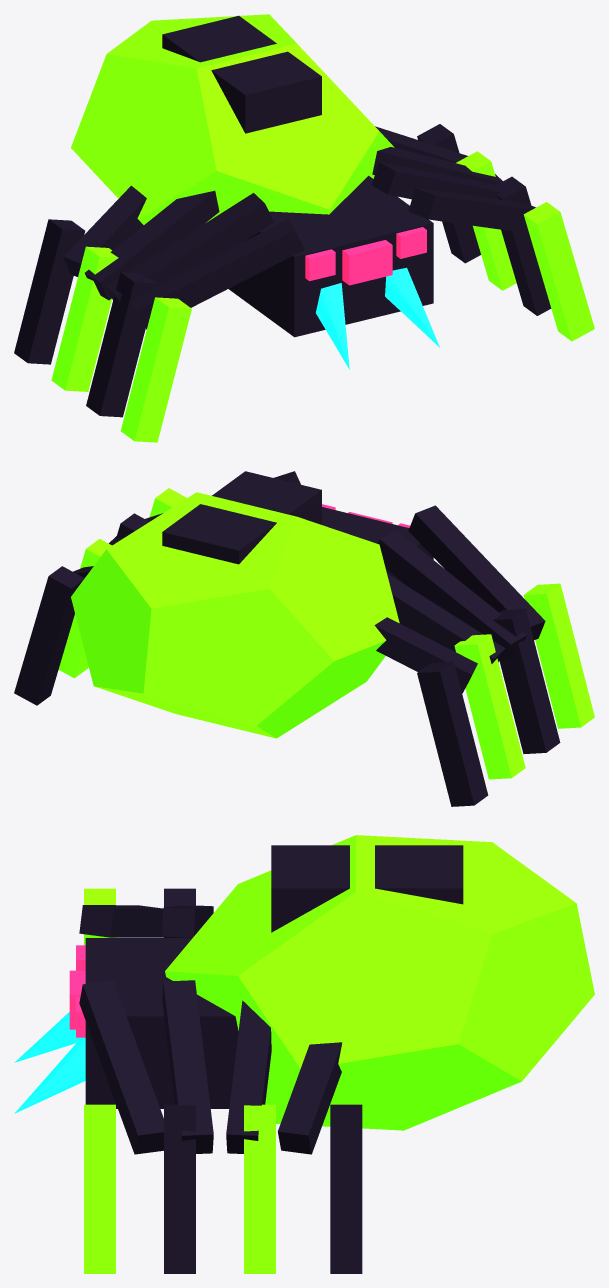
Rendered from enemy_spider.glb.
The picture shows the model from 3 angles, top to bottom: view 1: azimuth 30°, elevation 25°; view 2: azimuth 150°, elevation 25°; view 3: azimuth 270°, elevation 25°; orthographic projection. The views are drawn at different scales.
Visible parts, largest first — view 1: abdomen, thorax, abdomen_ridge, leg_lower_-1_0, leg_upper_-1_0, leg_lower_-1_3, leg_lower_-1_1, leg_lower_1_0, leg_lower_-1_2, leg_upper_-1_1, leg_upper_-1_2, leg_upper_1_0 (+12 smaller); view 2: abdomen, abdomen_ridge, leg_lower_-1_3, leg_lower_-1_0, leg_upper_-1_1, leg_lower_-1_2, leg_upper_-1_0, leg_lower_-1_1, leg_lower_1_3, leg_upper_-1_2, leg_upper_-1_3, thorax (+2 smaller); view 3: abdomen, thorax, abdomen_ridge, leg_upper_1_0, leg_lower_1_3, leg_upper_1_1, leg_lower_1_0, leg_lower_1_1, leg_lower_1_2, leg_upper_1_3, leg_upper_1_2, leg_upper_-1_0 (+6 smaller).
Part boxes in pixels (x1=…): abdomen: x1=71, y1=14, x2=394, y2=224; thorax: x1=228, y1=175, x2=433, y2=337; abdomen_ridge: x1=162, y1=15, x2=321, y2=133; leg_lower_-1_0: x1=120, y1=297, x2=191, y2=442; leg_upper_-1_0: x1=132, y1=219, x2=304, y2=329; leg_lower_-1_3: x1=14, y1=219, x2=85, y2=364; leg_lower_-1_1: x1=86, y1=272, x2=157, y2=417; leg_lower_1_0: x1=523, y1=202, x2=594, y2=341; leg_lower_-1_2: x1=51, y1=246, x2=118, y2=391; leg_upper_-1_1: x1=106, y1=193, x2=273, y2=301; leg_upper_-1_2: x1=85, y1=190, x2=219, y2=300; leg_upper_1_0: x1=408, y1=188, x2=535, y2=233; abdomen: x1=71, y1=492, x2=399, y2=738; abdomen_ridge: x1=162, y1=471, x2=321, y2=564; leg_lower_-1_3: x1=417, y1=661, x2=488, y2=806; leg_lower_-1_0: x1=523, y1=583, x2=594, y2=728; leg_upper_-1_1: x1=377, y1=530, x2=526, y2=662; leg_lower_-1_2: x1=454, y1=634, x2=525, y2=779; leg_upper_-1_0: x1=408, y1=505, x2=545, y2=640; leg_lower_-1_1: x1=493, y1=609, x2=560, y2=754; leg_lower_1_3: x1=14, y1=566, x2=84, y2=705; leg_upper_-1_2: x1=387, y1=573, x2=505, y2=663; leg_upper_-1_3: x1=374, y1=617, x2=477, y2=693; thorax: x1=322, y1=507, x2=433, y2=584; abdomen: x1=165, y1=835, x2=594, y2=1130; thorax: x1=85, y1=938, x2=238, y2=1108; abdomen_ridge: x1=271, y1=845, x2=463, y2=932; leg_upper_1_0: x1=79, y1=980, x2=163, y2=1154; leg_lower_1_3: x1=330, y1=1104, x2=362, y2=1273; leg_upper_1_1: x1=162, y1=980, x2=213, y2=1153; leg_lower_1_0: x1=84, y1=1104, x2=115, y2=1273; leg_lower_1_1: x1=164, y1=1104, x2=195, y2=1273; leg_lower_1_2: x1=244, y1=1104, x2=275, y2=1273; leg_upper_1_3: x1=277, y1=1042, x2=342, y2=1154; leg_upper_1_2: x1=226, y1=1000, x2=271, y2=1153; leg_upper_-1_0: x1=79, y1=905, x2=163, y2=937.
Size of the model in its own units: 1.92 by 0.9954 by 1.82.
